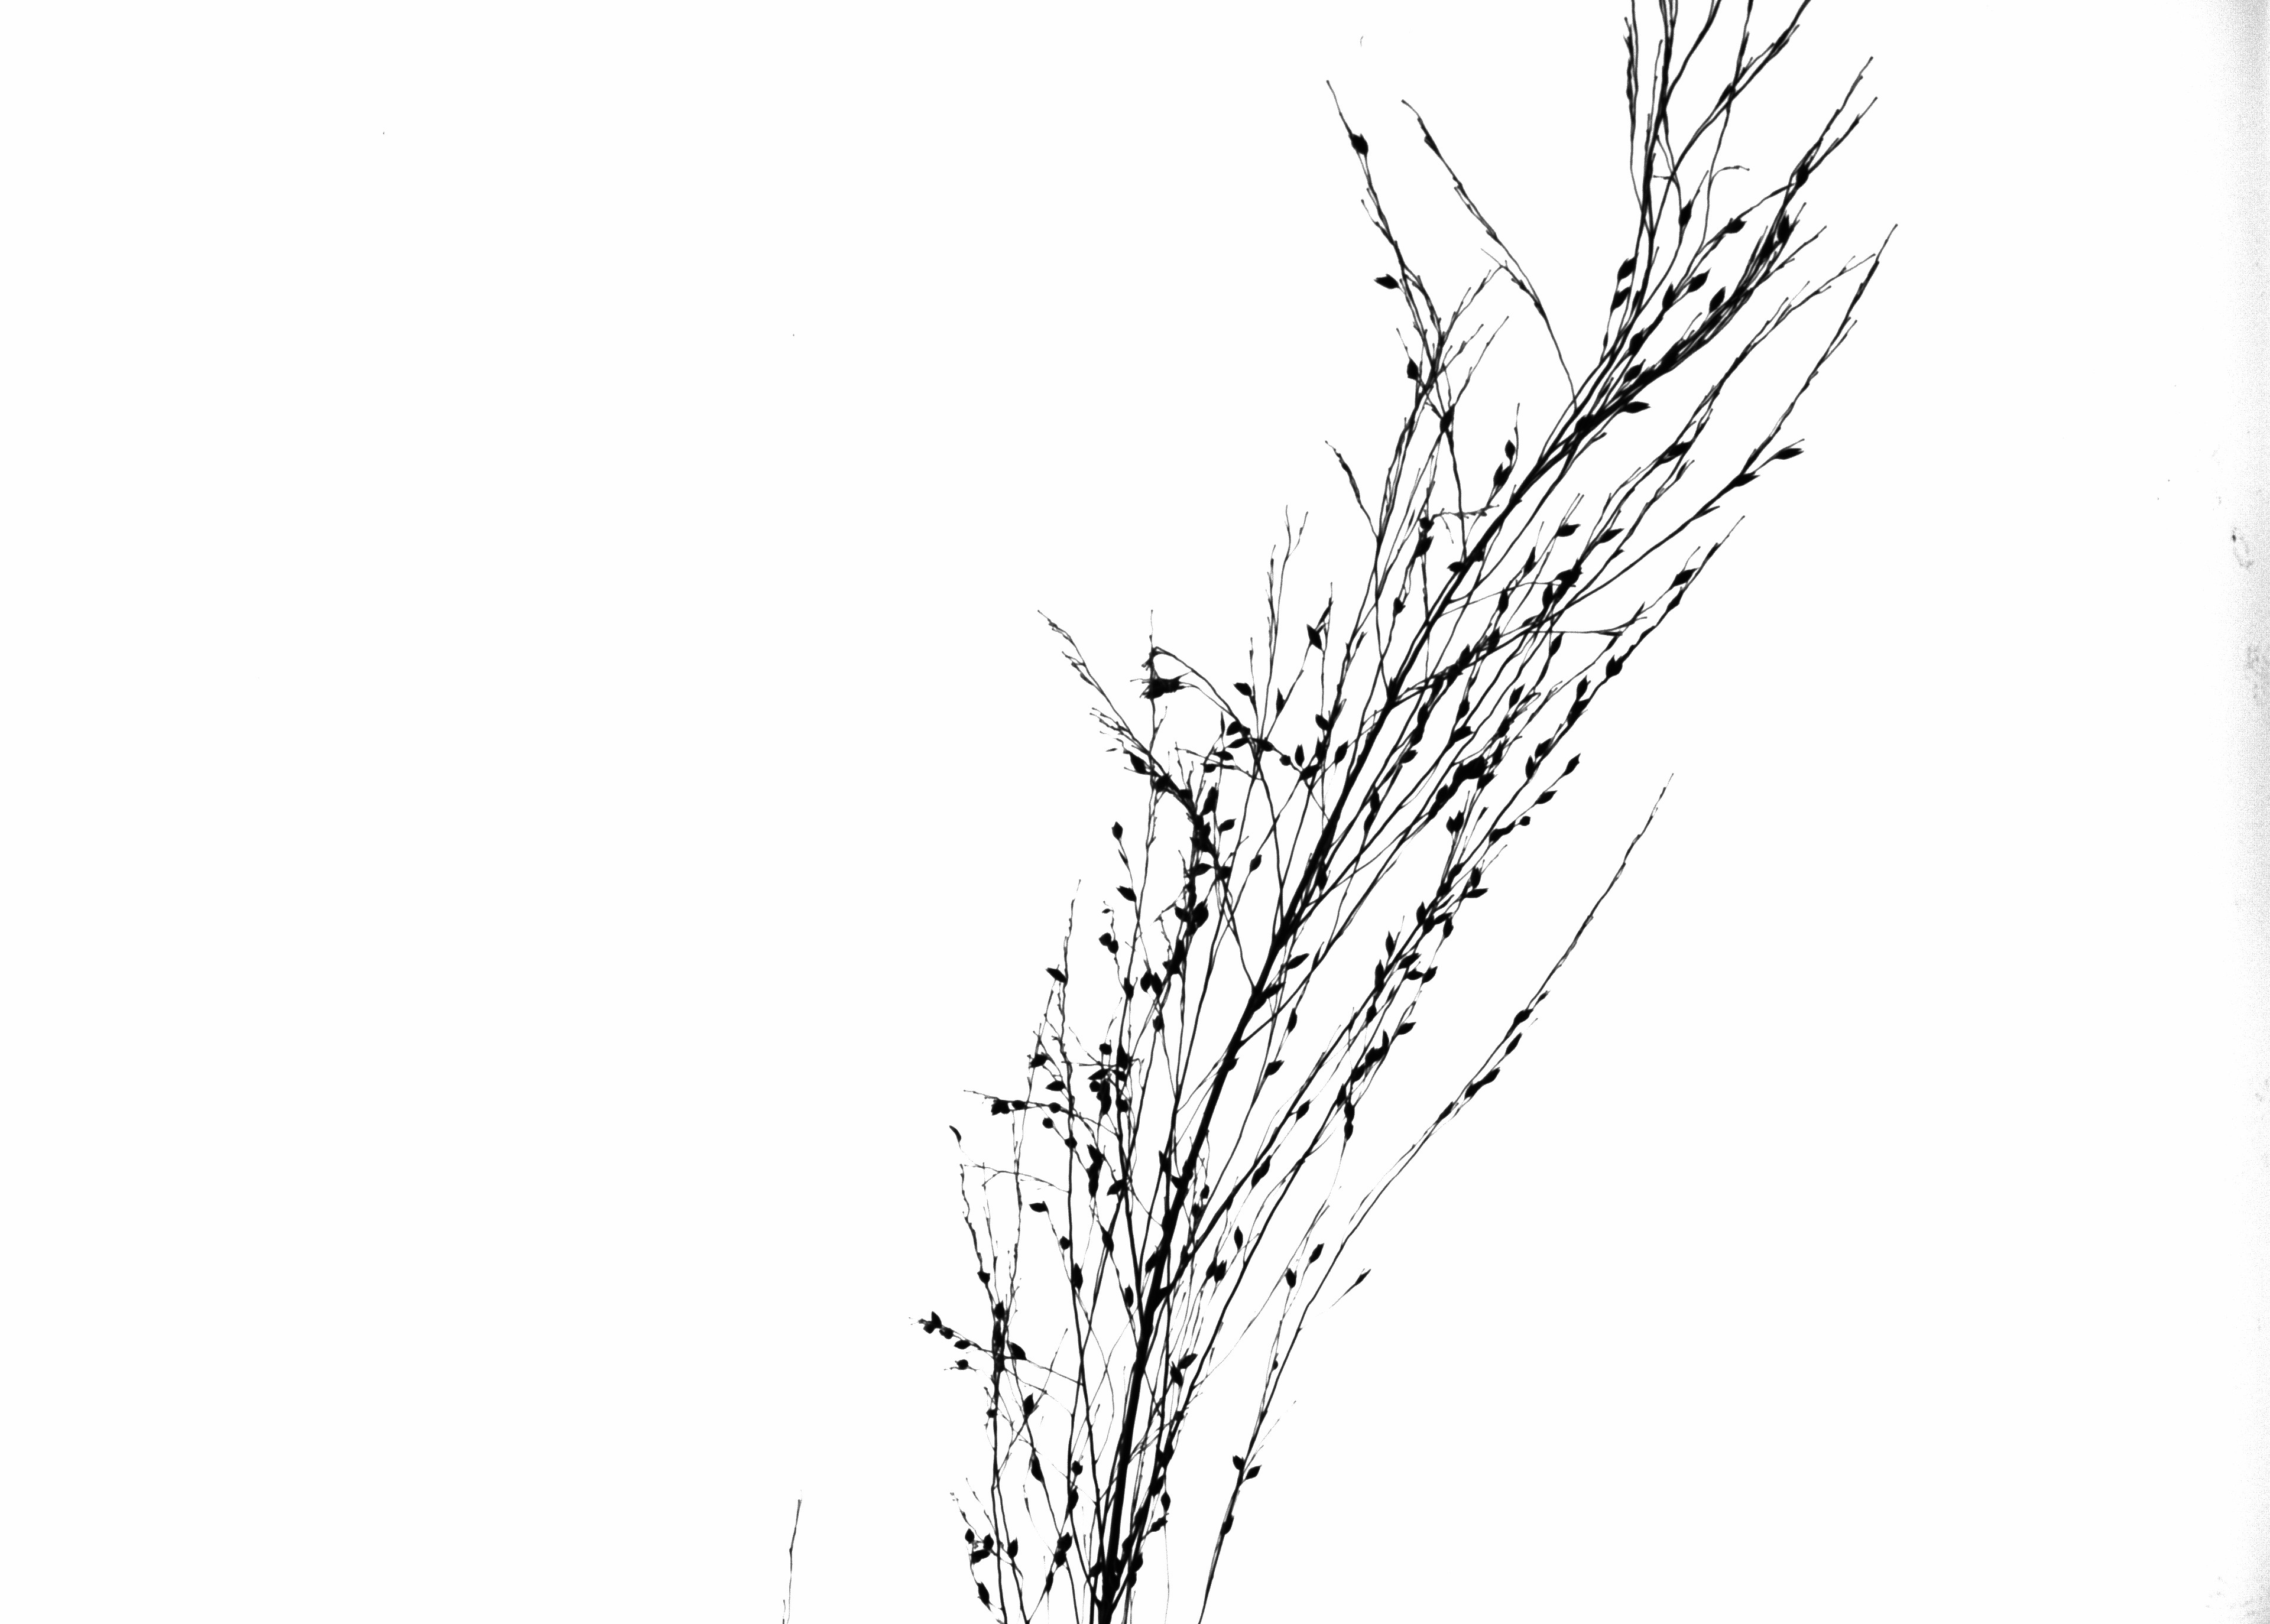seed: (1605, 285, 1637, 316), (1684, 265, 1714, 299), (1363, 269, 1403, 294), (1707, 278, 1732, 315), (1670, 562, 1700, 592), (1342, 128, 1371, 158), (1301, 620, 1326, 654), (1437, 401, 1459, 436), (1570, 410, 1598, 438), (1665, 436, 1695, 462), (1619, 357, 1649, 383), (1616, 250, 1641, 281), (972, 1578, 993, 1613), (1626, 322, 1648, 357), (1491, 714, 1516, 743), (1414, 533, 1437, 564), (1772, 445, 1809, 464), (1755, 228, 1774, 265), (1720, 216, 1753, 237), (1502, 1030, 1526, 1058), (1554, 517, 1582, 541), (1041, 963, 1071, 986), (1261, 1058, 1291, 1081), (1282, 949, 1312, 972), (1598, 524, 1628, 547), (1023, 1452, 1044, 1483), (1475, 768, 1500, 794), (1215, 1055, 1241, 1079), (1734, 468, 1760, 492), (1400, 357, 1426, 381), (1333, 735, 1352, 768), (1521, 543, 1540, 576), (1674, 195, 1693, 228), (1449, 722, 1477, 745), (1393, 951, 1422, 972), (1153, 1146, 1173, 1178), (1537, 578, 1556, 610), (1616, 399, 1655, 415), (1125, 749, 1148, 775), (1231, 677, 1257, 700), (1437, 1097, 1458, 1125), (1113, 882, 1141, 903), (1563, 749, 1584, 777), (1153, 678, 1187, 696), (1203, 782, 1220, 816), (1292, 763, 1322, 782), (1547, 629, 1567, 659), (1008, 1339, 1030, 1364), (1215, 859, 1236, 886), (1169, 898, 1190, 924), (1085, 1141, 1106, 1167), (1394, 1019, 1421, 1040), (1507, 682, 1528, 708), (1660, 279, 1676, 315), (1308, 733, 1328, 761), (1308, 1239, 1328, 1267), (1554, 564, 1588, 580), (1064, 1483, 1081, 1513), (1380, 926, 1398, 956), (1160, 956, 1183, 979), (1352, 1265, 1375, 1288), (1146, 1515, 1171, 1536), (1178, 1348, 1203, 1369), (1247, 851, 1266, 877), (1489, 459, 1505, 490), (1023, 1051, 1051, 1069), (1097, 1223, 1115, 1251), (1166, 1360, 1183, 1388), (1215, 814, 1238, 835), (1189, 858, 1211, 879), (1057, 1529, 1078, 1552), (1106, 1176, 1129, 1197), (1347, 1062, 1370, 1083), (1433, 782, 1452, 807), (990, 1297, 1009, 1322), (1442, 916, 1461, 940), (1421, 963, 1440, 988), (1313, 708, 1333, 733), (1535, 787, 1560, 807), (1022, 1388, 1037, 1418), (1502, 434, 1517, 464), (1219, 1512, 1236, 1538), (1296, 1097, 1313, 1123), (1468, 861, 1486, 888), (1491, 740, 1507, 768), (1215, 1255, 1231, 1283), (1122, 1280, 1136, 1311), (1069, 1260, 1083, 1292), (1285, 1005, 1301, 1033), (1271, 685, 1287, 714), (1783, 207, 1793, 250), (1512, 1007, 1535, 1026), (1215, 708, 1229, 738), (1368, 784, 1382, 814), (1575, 673, 1591, 700), (1108, 819, 1127, 840), (1227, 1450, 1247, 1471), (1482, 1069, 1503, 1088), (1415, 513, 1437, 533), (1152, 968, 1166, 997), (1461, 886, 1489, 900), (1496, 585, 1510, 613), (1085, 1063, 1110, 1079), (1043, 1566, 1055, 1598), (1343, 1095, 1359, 1120), (1291, 742, 1306, 766), (1415, 701, 1431, 726), (1456, 694, 1472, 719), (1037, 1114, 1057, 1134), (974, 1265, 993, 1285), (1245, 1462, 1264, 1482), (1122, 974, 1136, 1000), (1009, 1095, 1030, 1113), (953, 1355, 974, 1373), (1006, 1534, 1020, 1561), (1233, 1223, 1247, 1250), (1400, 747, 1421, 765), (1213, 747, 1236, 763), (1027, 1199, 1050, 1214), (1152, 1011, 1166, 1035), (1203, 1255, 1217, 1280), (1284, 1264, 1298, 1288), (1333, 1081, 1345, 1109), (1094, 928, 1111, 947), (1095, 1037, 1113, 1056), (1067, 1457, 1085, 1476), (1340, 1121, 1357, 1141), (1391, 594, 1407, 615), (1445, 559, 1466, 575), (1363, 998, 1375, 1025), (1379, 1028, 1391, 1055), (1415, 900, 1428, 926), (1524, 754, 1537, 780), (1229, 735, 1252, 749), (1044, 1079, 1067, 1093), (965, 1550, 988, 1564), (928, 1306, 942, 1329), (1373, 956, 1387, 979), (953, 1336, 972, 1352), (1470, 1079, 1484, 1100), (1139, 965, 1150, 993), (1132, 1550, 1146, 1571), (1160, 1489, 1175, 1510), (1057, 1230, 1071, 1251), (1444, 814, 1456, 837), (1517, 812, 1533, 830), (1605, 652, 1616, 678), (1044, 1100, 1064, 1114), (962, 1526, 976, 1545), (1199, 761, 1220, 773), (983, 1531, 995, 1552), (1277, 752, 1292, 768), (1386, 982, 1396, 1005), (1110, 937, 1120, 958), (942, 1323, 957, 1339), (1064, 1134, 1076, 1151), (1201, 1181, 1210, 1200)
